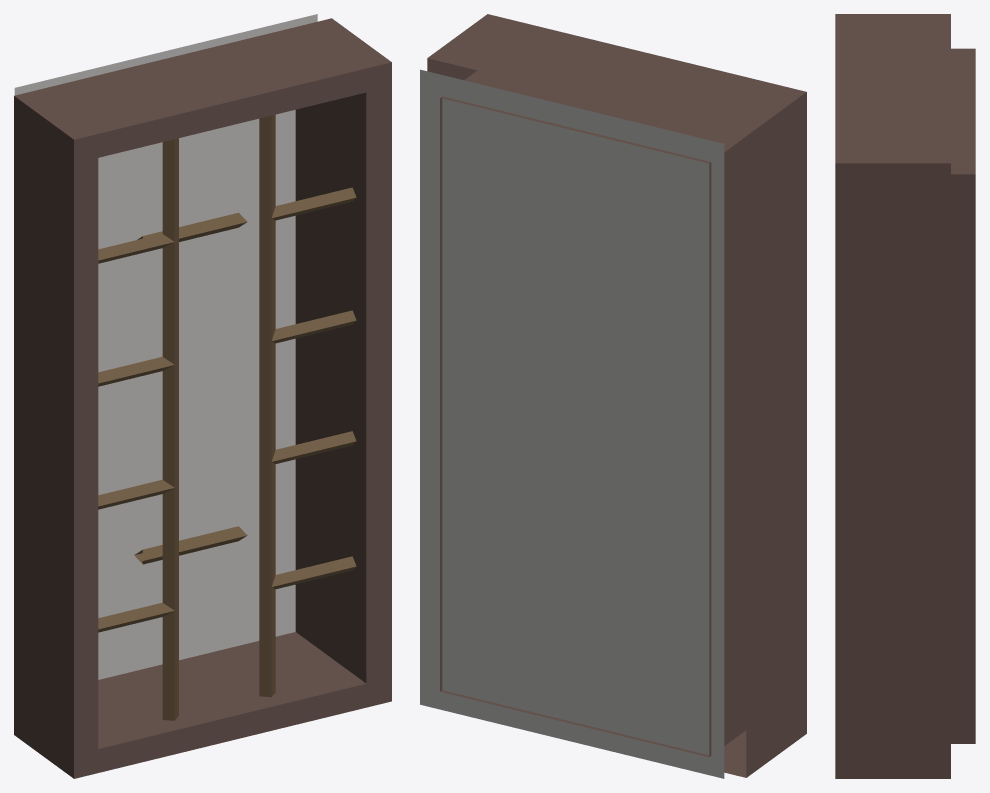
File: SM_Env_Window_07.fbx
3 renders of one model, left to right at view 1: azimuth 30°, elevation 25°; view 2: azimuth 150°, elevation 25°; view 3: azimuth 270°, elevation 25°, orthographic. The views are drawn at different scales.
Visible parts, largest first — view 1: SM_Env_Window_07; view 2: SM_Env_Window_07; view 3: SM_Env_Window_07.
Boxes of the visible parts, x1=… form: SM_Env_Window_07: x1=14, y1=14, x2=391, y2=778; SM_Env_Window_07: x1=420, y1=14, x2=806, y2=778; SM_Env_Window_07: x1=835, y1=14, x2=975, y2=778.
Bounding box in the file's own units: 48.33 × 92.87 × 19.2.
1 material, 1 textured.
